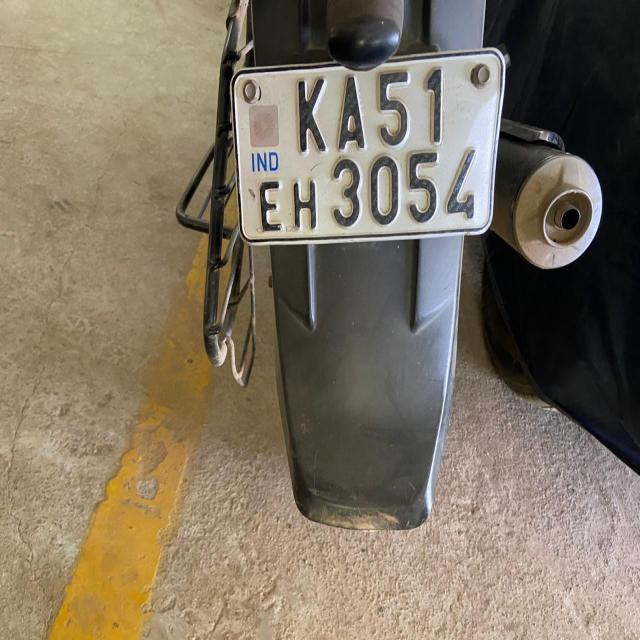0: (368, 150, 403, 230)
1: (421, 58, 455, 154)
3: (330, 151, 365, 229)
4: (446, 147, 479, 225)
5: (374, 66, 416, 150), (406, 150, 441, 226)
A: (333, 71, 369, 160)
E: (253, 175, 287, 240)
H: (290, 175, 324, 235)
K: (290, 74, 331, 156)
